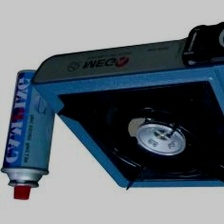aerosol_cans: (0, 65, 66, 203)
